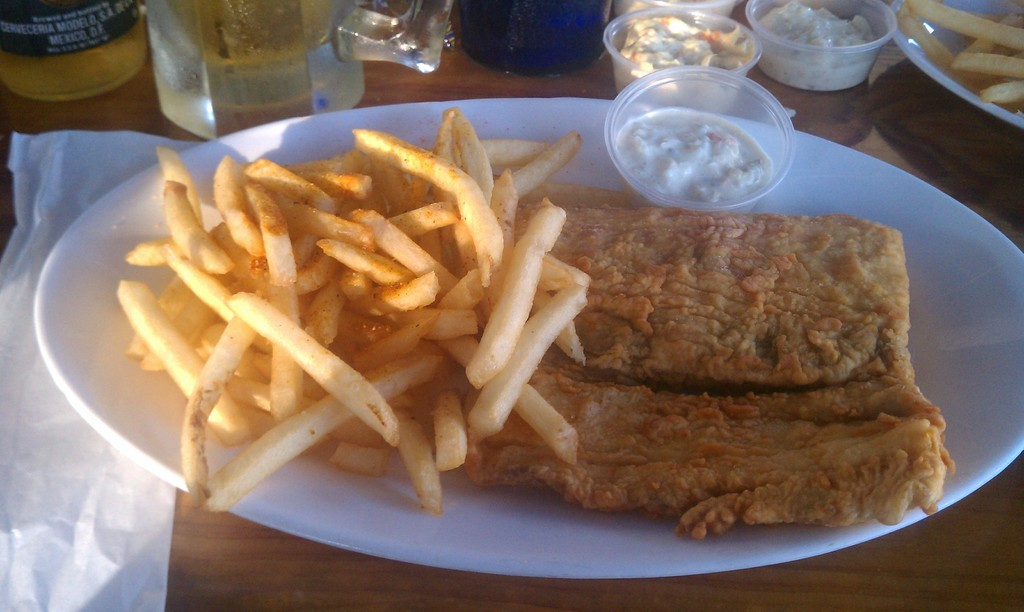French fries: (132, 126, 678, 518), (898, 0, 1023, 111)
